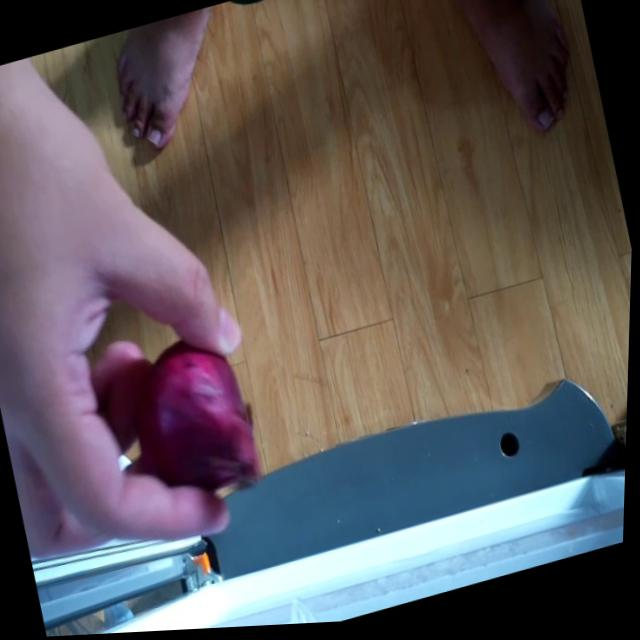onion: (118, 327, 274, 528)
